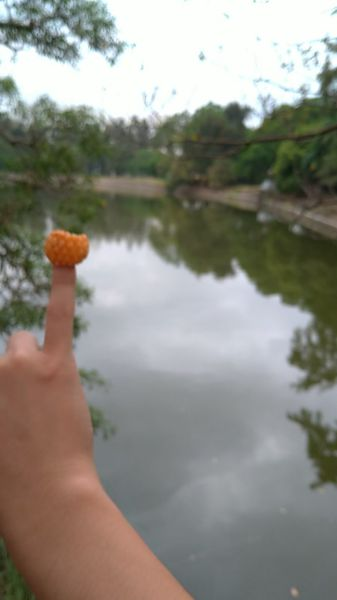eggs: (43, 230, 91, 269)
